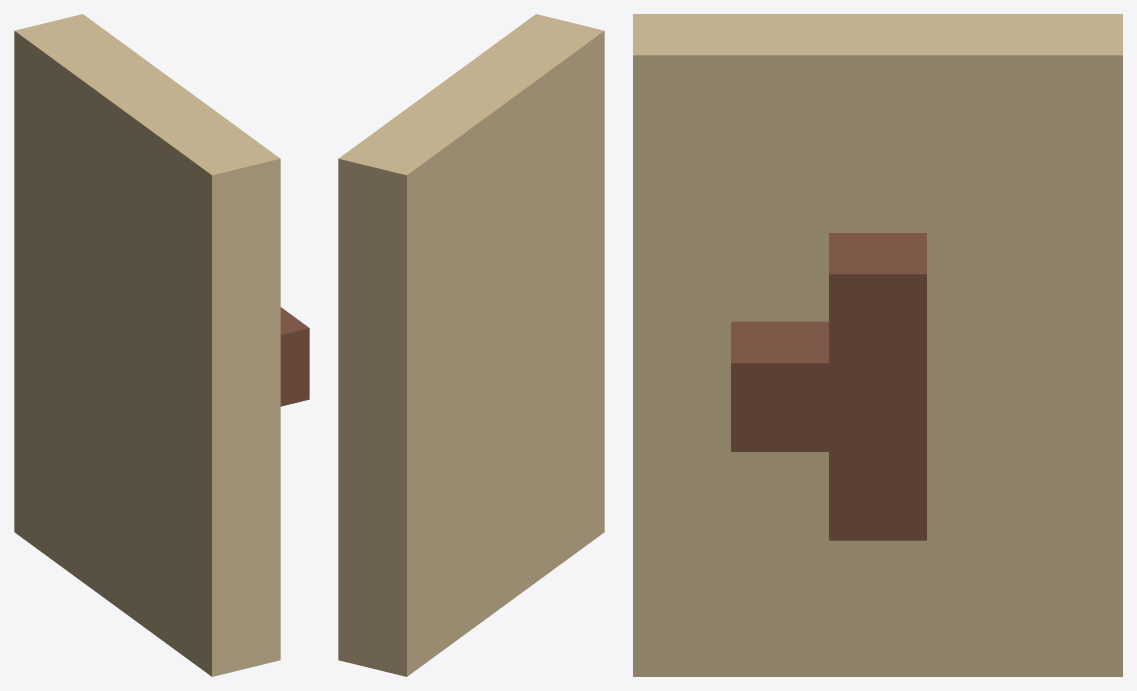
The model's file is Switch00.gltf.
3 views of the same model, side by side, from view 1: azimuth 30°, elevation 25°; view 2: azimuth 150°, elevation 25°; view 3: azimuth 270°, elevation 25° (orthographic). The views are drawn at different scales.
Visible parts, largest first — view 1: base, btn3; view 2: base; view 3: base, btn2, btn3.
Part boxes in pixels (left/top/right/bottom): base: left=14, top=14, right=280, bottom=676; btn3: left=280, top=307, right=309, bottom=406; base: left=338, top=14, right=604, bottom=676; base: left=633, top=14, right=1122, bottom=676; btn2: left=829, top=233, right=926, bottom=540; btn3: left=731, top=321, right=926, bottom=451.
Size of the model in its own units: 2 by 7 by 5.
